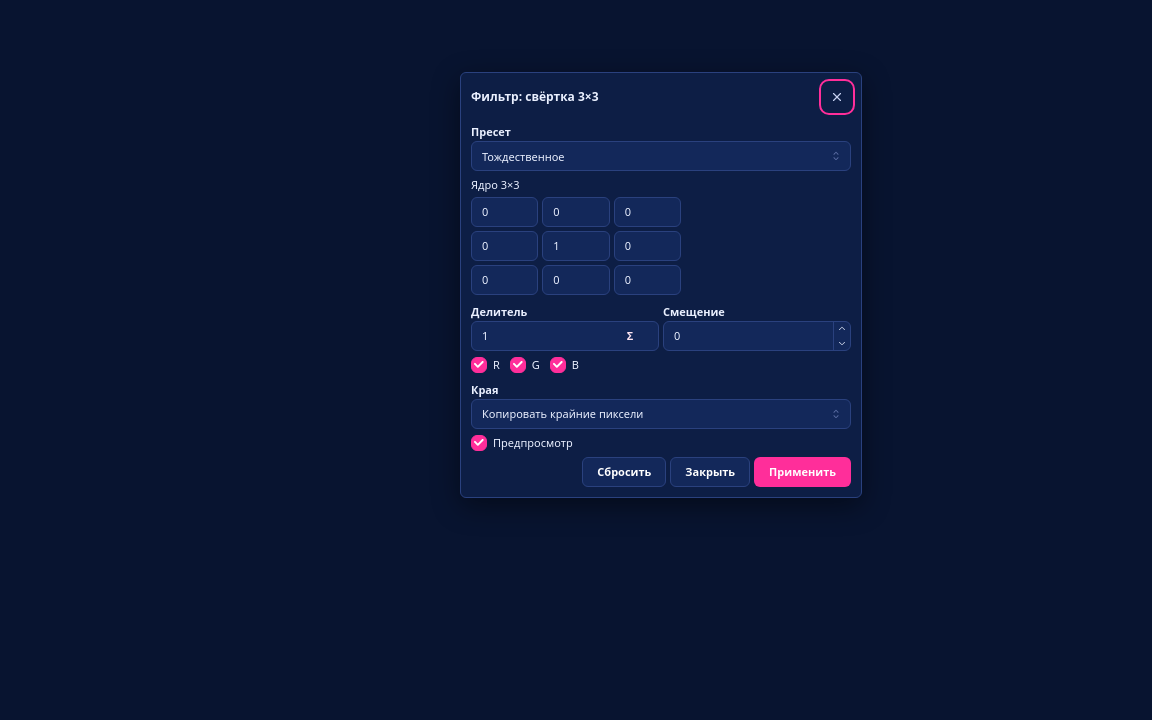
Test: FilterDialog › returning to an already previewed kernel mid-computation clears the spinner
Replace the text in the field named "Вес 2.2" with "2": (576, 246) [542,230,610,260]
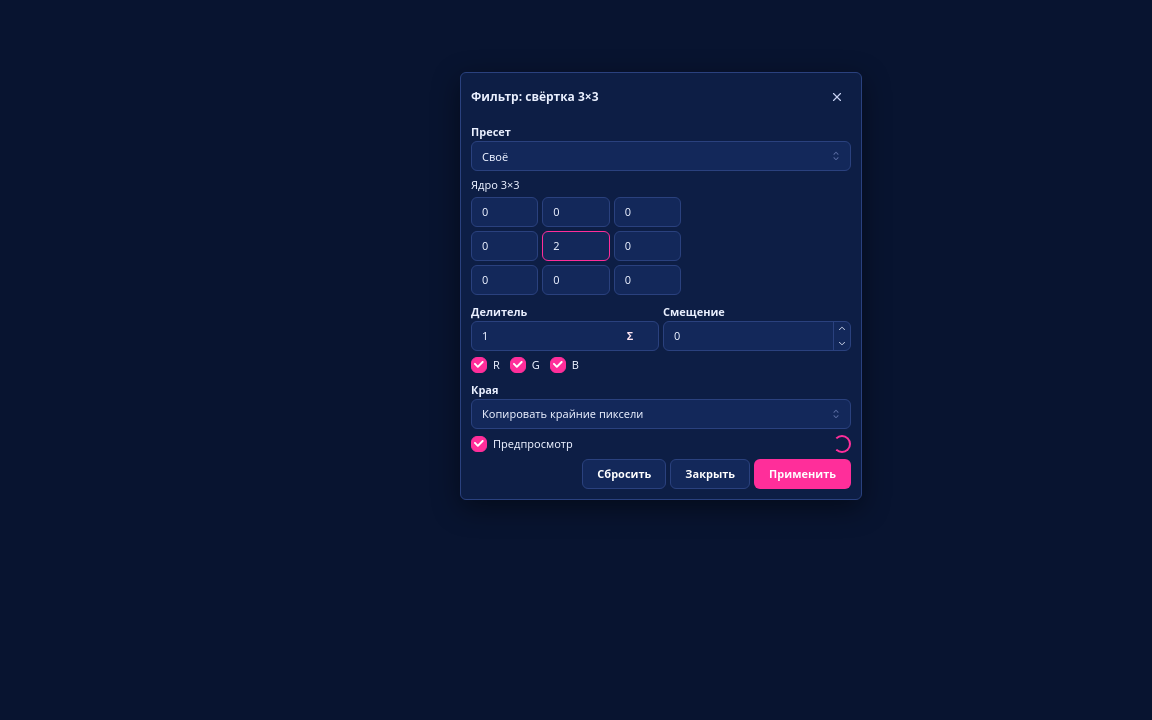
Now the element named "Вычисление" is shown, box [833,435,851,453]
Replace the text in the field named "Вес 2.2" with "1": (576, 246) [542,230,610,260]
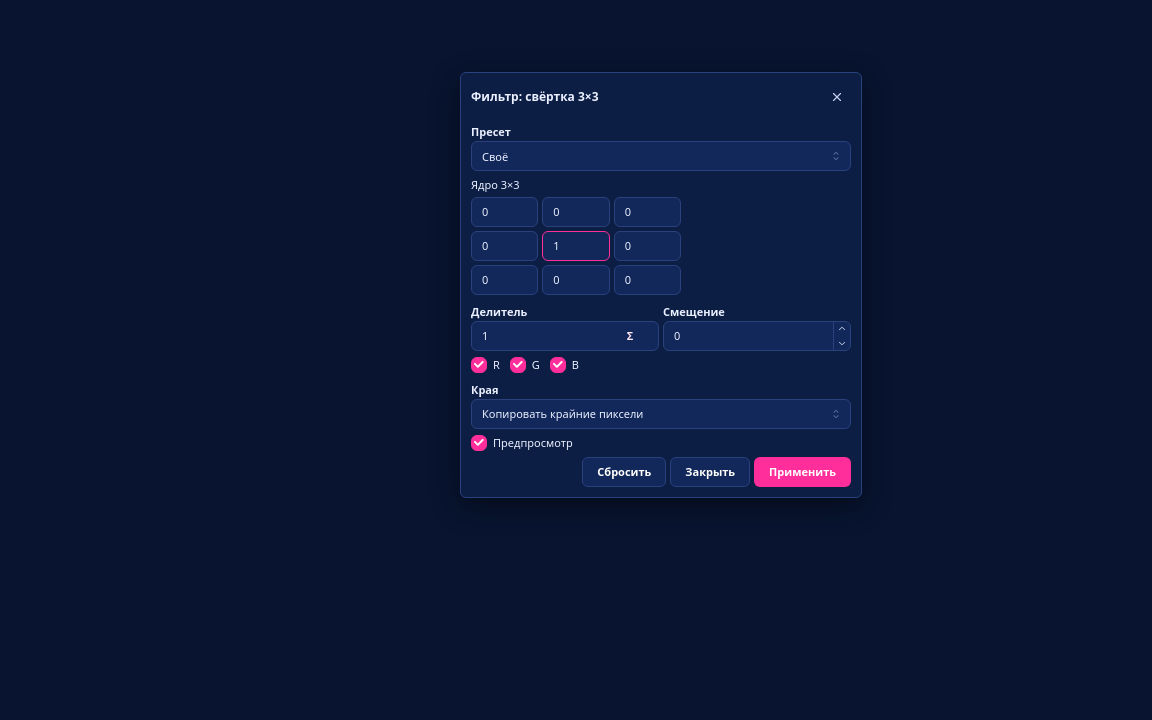
Now the field labelled "Вычисление" is gone
